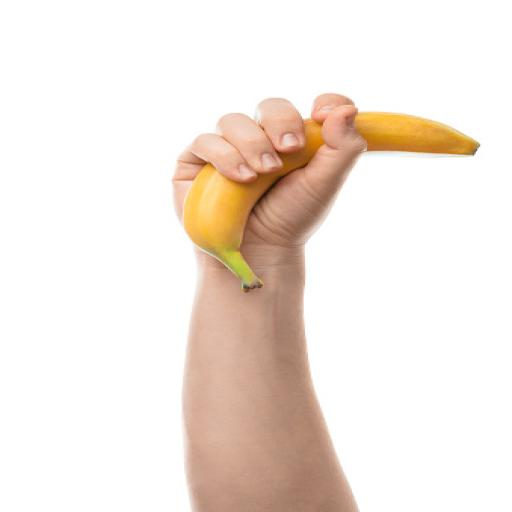banana: (183, 119, 323, 292)
